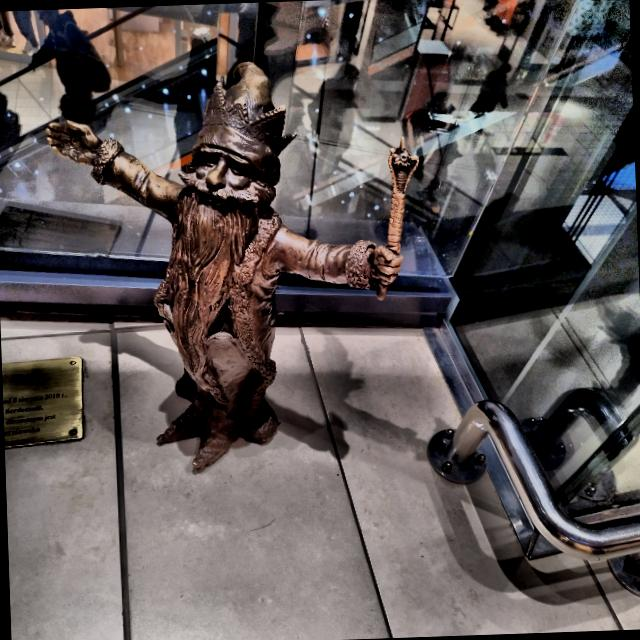Serdecznis: (46, 61, 416, 473)
